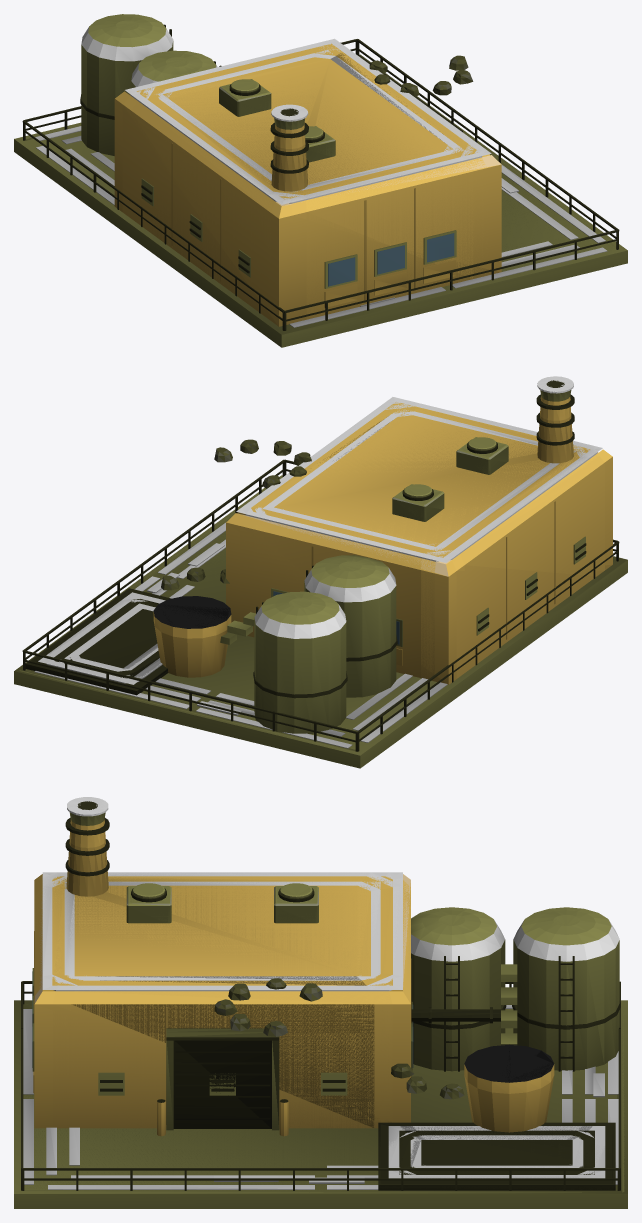
The model's file is meridian_refinery_damaged.glb.
The picture shows the model from 3 angles, top to bottom: view 1: azimuth 30°, elevation 25°; view 2: azimuth 150°, elevation 25°; view 3: azimuth 270°, elevation 25°; orthographic projection. The views are drawn at different scales.
Visible parts, largest first — view 1: body (×3); view 2: body (×3); view 3: body (×3).
Part boxes in pixels (x1,y1,x2,y2): body (×3): (14, 14, 627, 347); body (×3): (14, 376, 627, 768); body (×3): (14, 797, 627, 1208).
Bounding box in the file's own units: 11.2 × 6.25 × 15.
